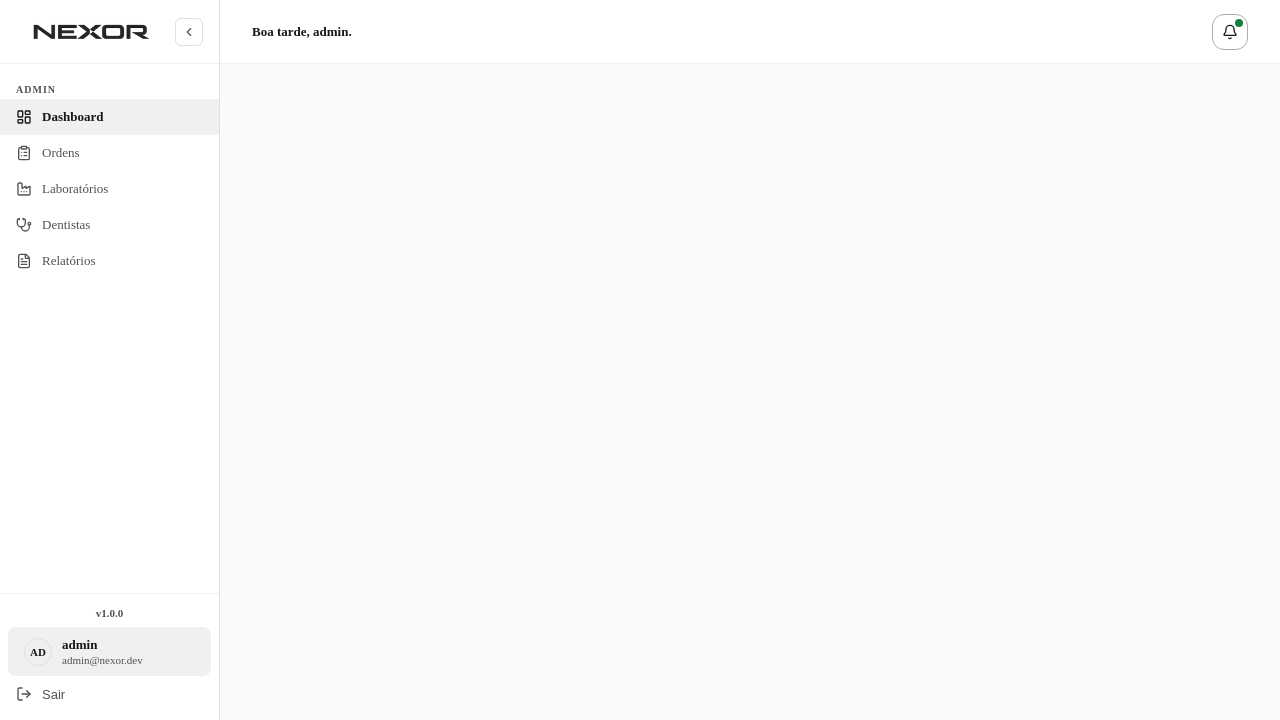
Scenario: PortalLayout navigation › limits the Todas tab in the notifications popover to ten items
This screenshot has width=1280, height=720.
What coordinates should you click on to do the following:
click the button named "Notificações"
I would click on:
 (1230, 32)
Its box is left=1212, top=14, right=1248, bottom=50.
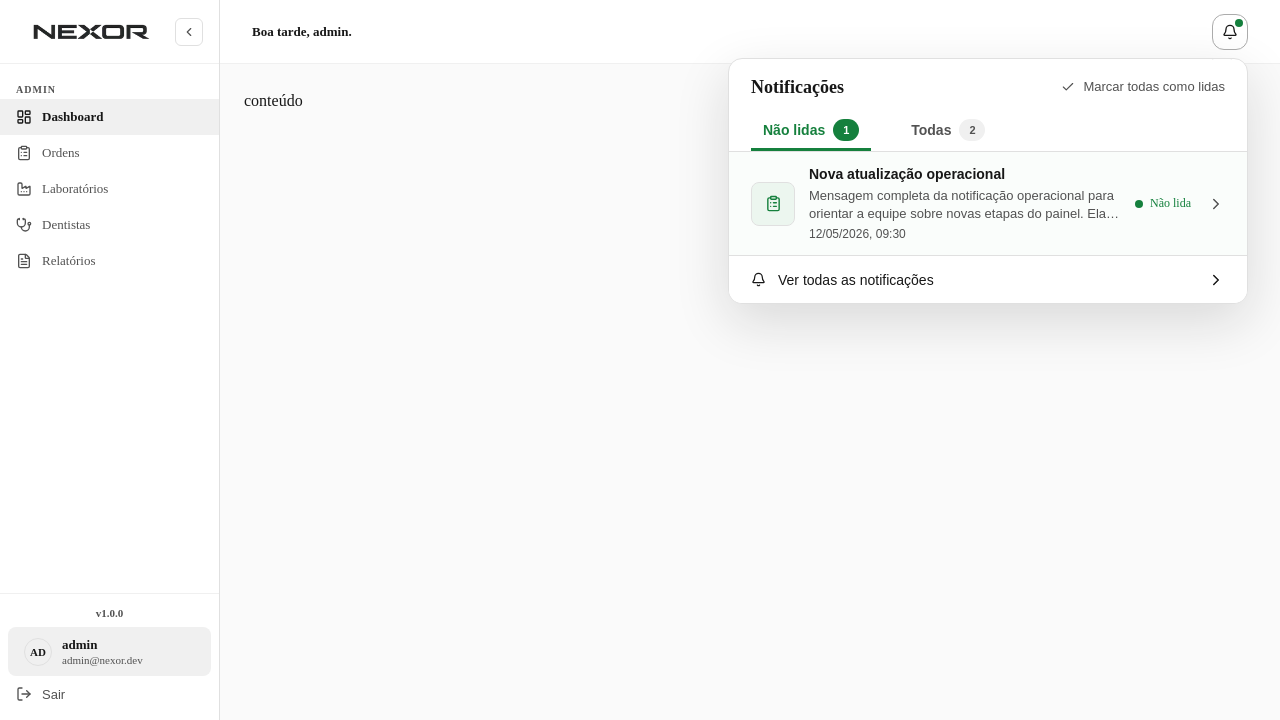
What coordinates should you click on to do the following:
click the tab "Todas 2"
I would click on:
 (948, 131)
Its box is left=899, top=111, right=998, bottom=151.
(page scrolled)
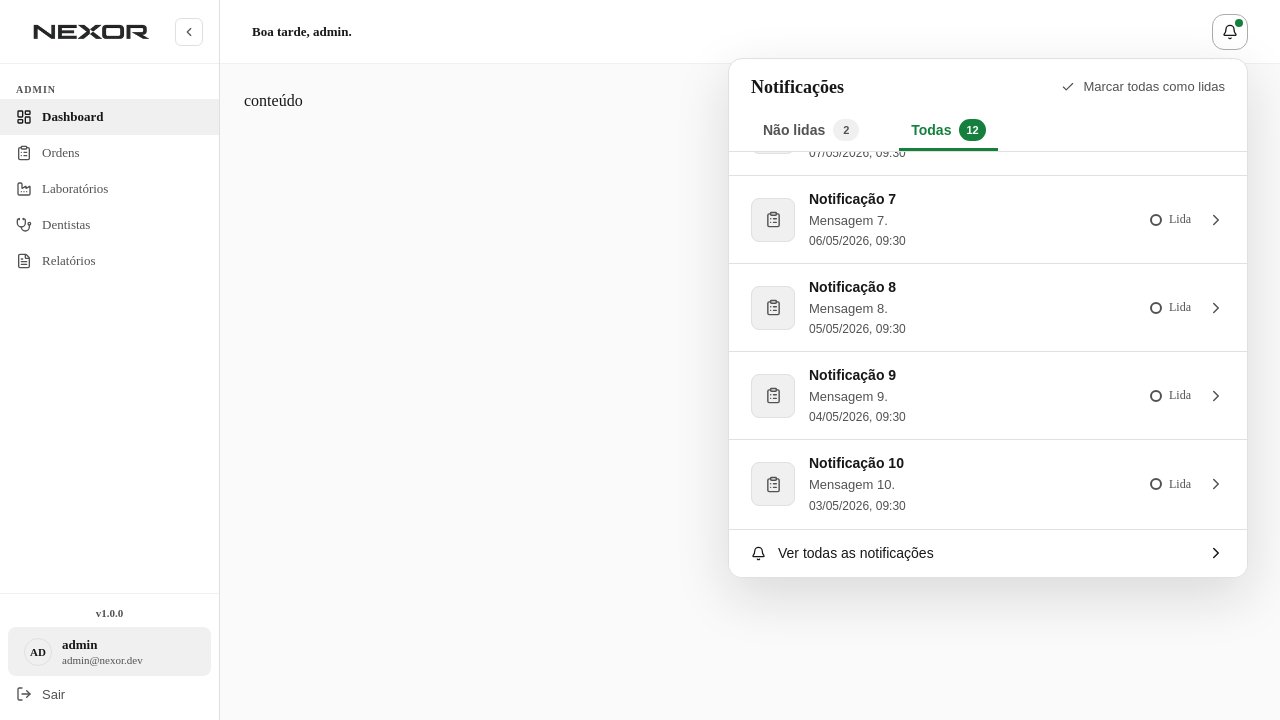
Result: the button with aria-label "abrir notificação notificação 10" is shown at left=751, top=455, right=1136, bottom=513
